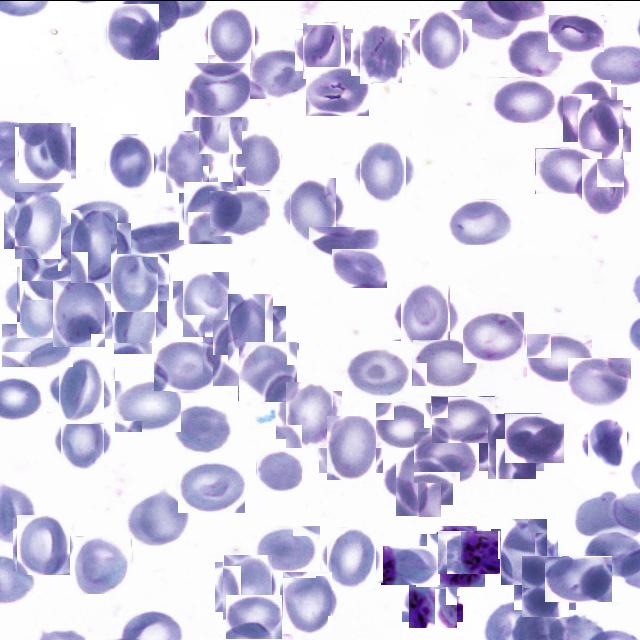red blood cell: (126, 487, 192, 545), (186, 62, 256, 116), (48, 281, 109, 342), (12, 270, 72, 332), (64, 216, 125, 276), (238, 342, 298, 401), (178, 460, 245, 512), (114, 379, 181, 431), (396, 286, 456, 344), (73, 535, 131, 593), (52, 360, 110, 418), (105, 248, 163, 306), (181, 183, 239, 241), (222, 298, 280, 356), (390, 452, 448, 510), (413, 430, 477, 482), (219, 558, 276, 616), (322, 419, 380, 476), (15, 515, 72, 572), (9, 196, 66, 253), (483, 417, 540, 474), (280, 386, 338, 442), (526, 332, 592, 381), (486, 76, 556, 122), (154, 342, 218, 392), (323, 530, 380, 586), (208, 324, 264, 381), (497, 522, 552, 580), (1, 322, 73, 366), (464, 311, 526, 362), (279, 574, 335, 630), (18, 124, 74, 180), (558, 82, 614, 138), (285, 181, 341, 237), (178, 276, 234, 332), (346, 348, 410, 397), (544, 555, 612, 601), (306, 66, 369, 115), (447, 198, 514, 244), (535, 147, 602, 193), (106, 293, 162, 348), (252, 525, 320, 570), (412, 338, 477, 385), (405, 569, 460, 624), (568, 357, 631, 405), (431, 395, 495, 442), (504, 412, 564, 462), (518, 558, 572, 613), (251, 48, 310, 98), (103, 135, 157, 189), (106, 4, 160, 58), (356, 144, 410, 198), (172, 402, 230, 452), (161, 134, 214, 188), (414, 14, 468, 67), (63, 198, 128, 242), (574, 102, 627, 155), (209, 189, 270, 235), (437, 529, 500, 573), (205, 8, 258, 60), (355, 27, 407, 80), (22, 230, 77, 280), (231, 131, 283, 183), (117, 220, 192, 256), (57, 414, 108, 466), (194, 99, 246, 150), (375, 401, 431, 447), (300, 24, 350, 74), (578, 162, 628, 212), (226, 594, 282, 638), (510, 28, 561, 76), (308, 225, 380, 258), (381, 545, 440, 584), (331, 247, 387, 287), (584, 419, 630, 466), (548, 13, 604, 51), (256, 448, 302, 491)
schizont: (420, 529, 481, 591)
